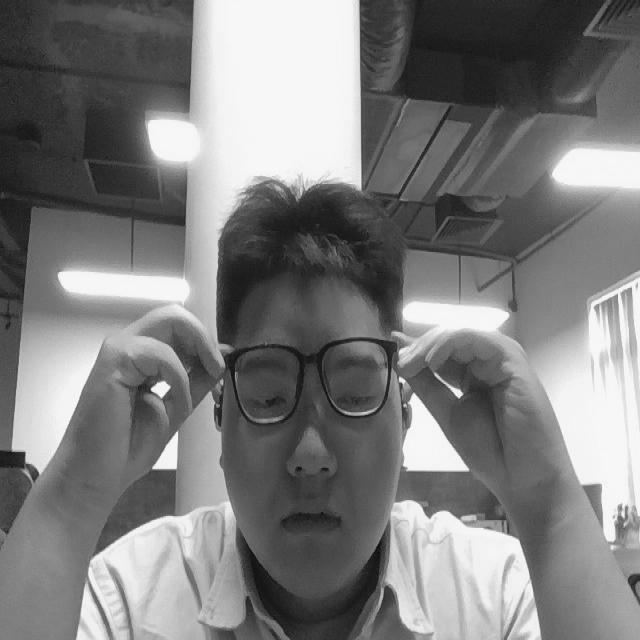real: (216, 180, 411, 605), (231, 338, 391, 426)
